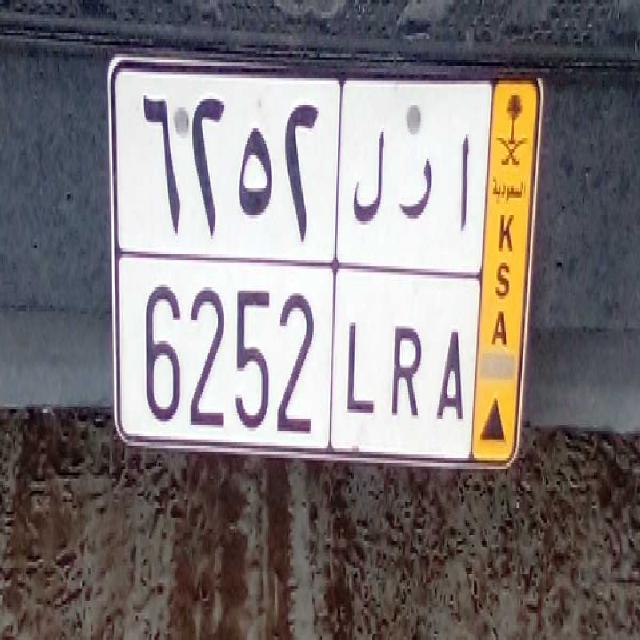license_plate: (124, 246, 470, 456)
